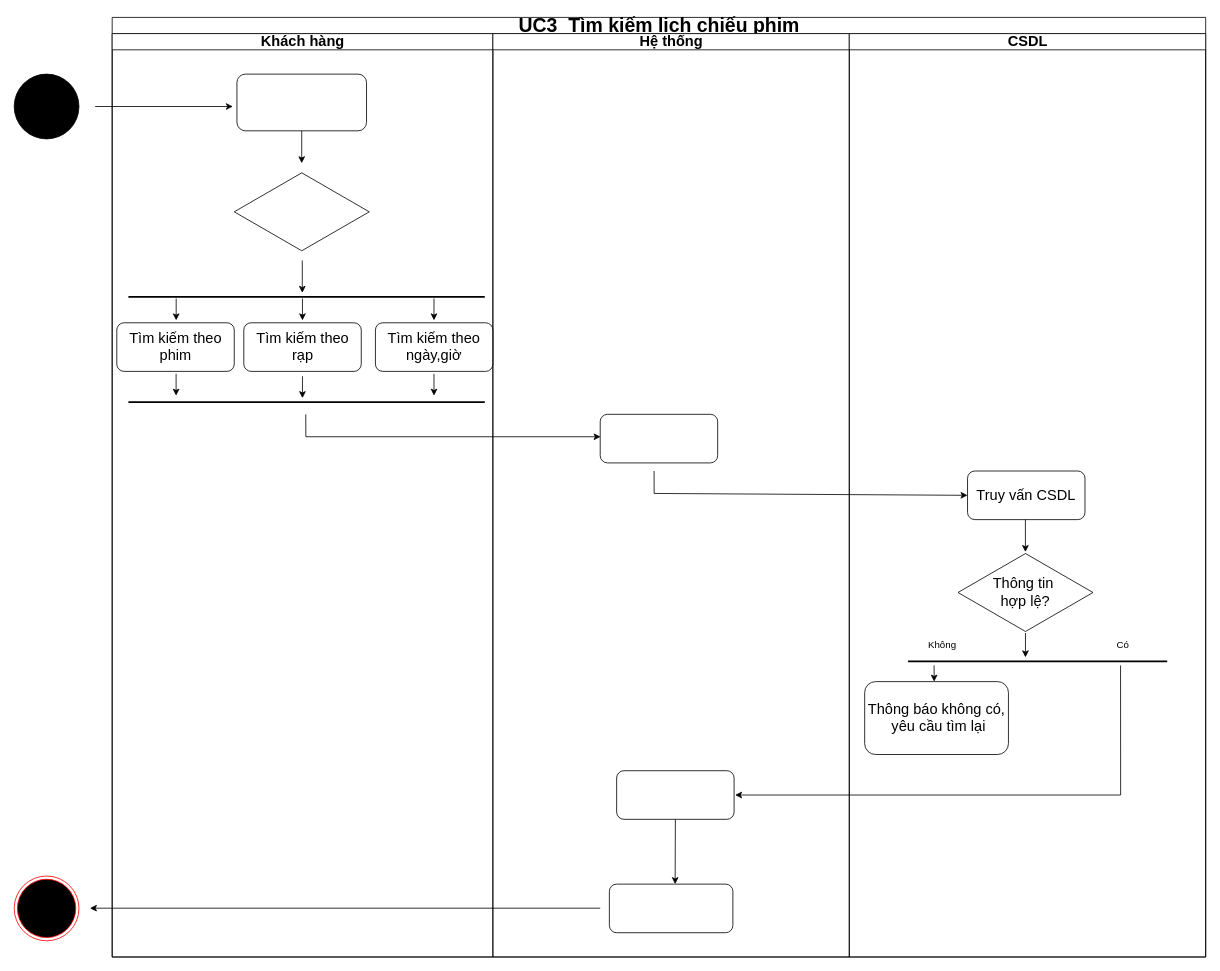
This 1220x971 diagram has some shape labels left out. The shapes that lost their labels are listed below. From the top down, each one's centre as x and y in pixels, then its label:
At [301,102]: "Chọn chức năng: Tìm kiếm lịch chiếu".
At [301,211]: "Tìm kiếm theo?".
At [658,438]: "Gửi yêu cầu tương ứng đến CSDL".
At [675,794]: "Nhận kết quả".
At [671,908]: "Hiển thị lịch chiếu tương ứng".
